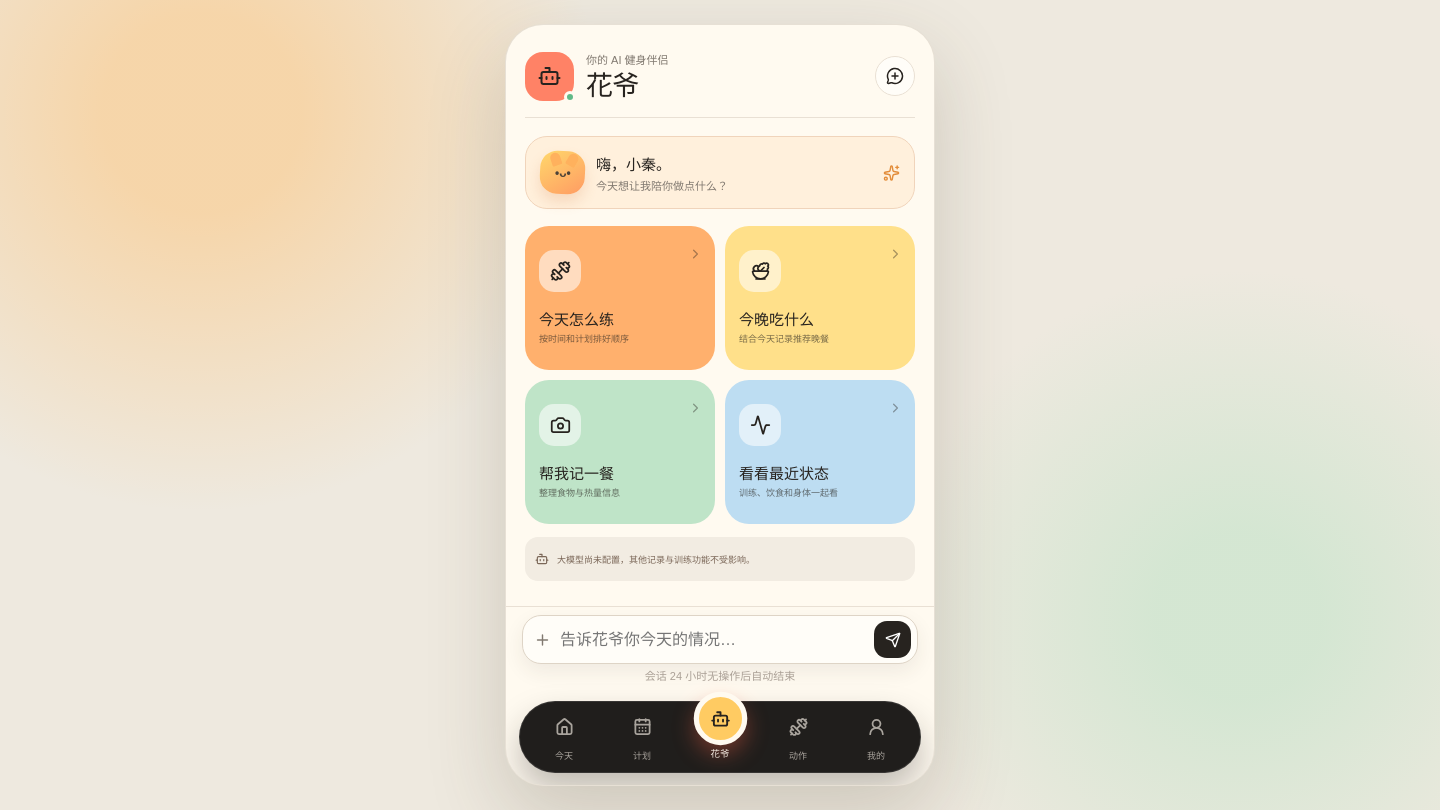
App › shows a transient public stage as soon as the AI run starts
In the field named "问花爷": (712, 640) left=558, top=623, right=867, bottom=657, type "帮我安排训练"
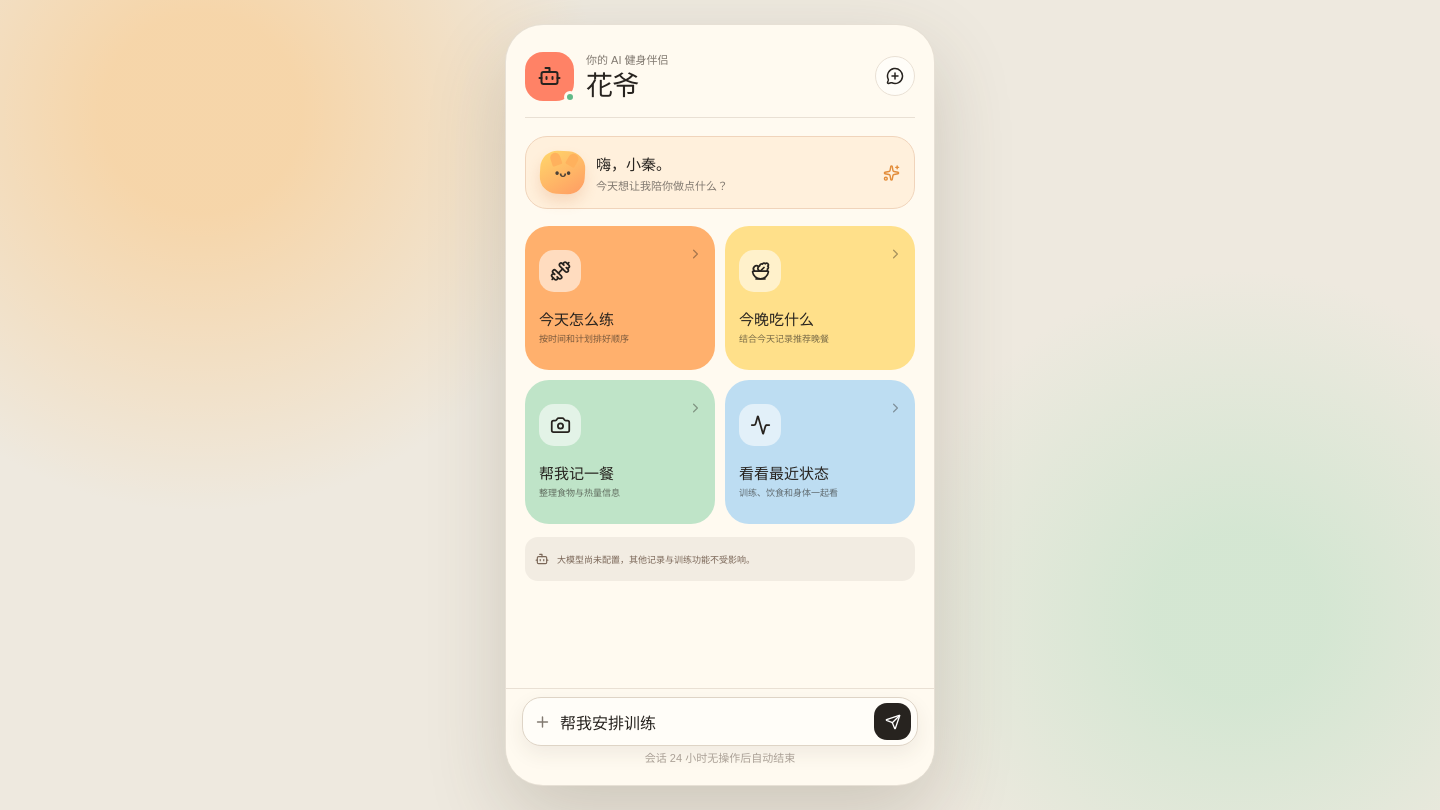
Press Enter
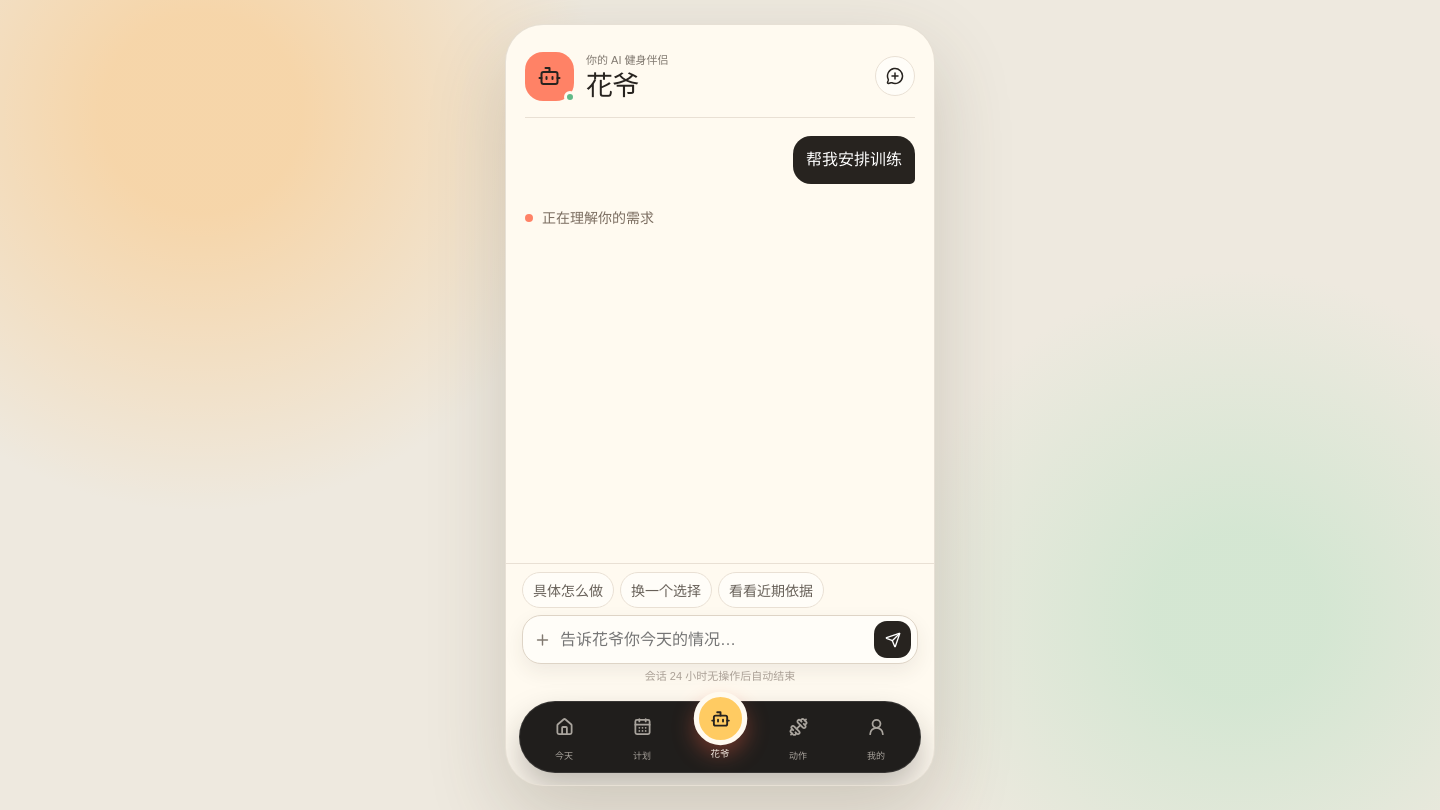
Expected: the message reads "正在理解你的需求", left=542, top=210, right=654, bottom=226
